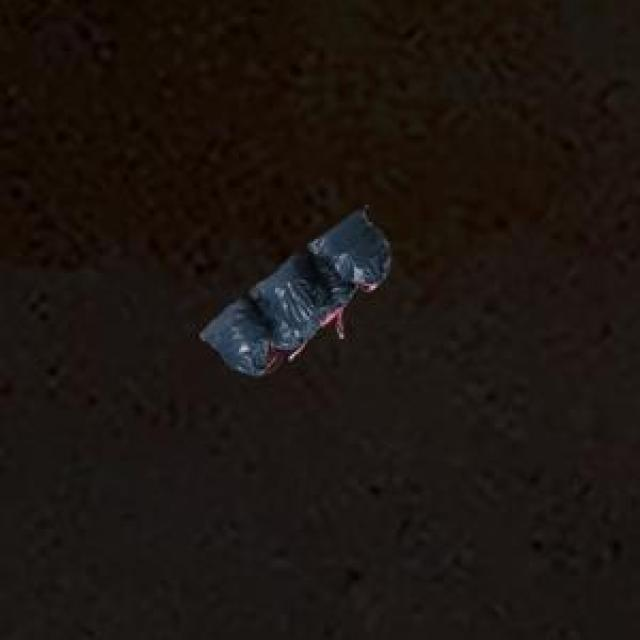miscellaneous trash: (196, 205, 386, 371)
